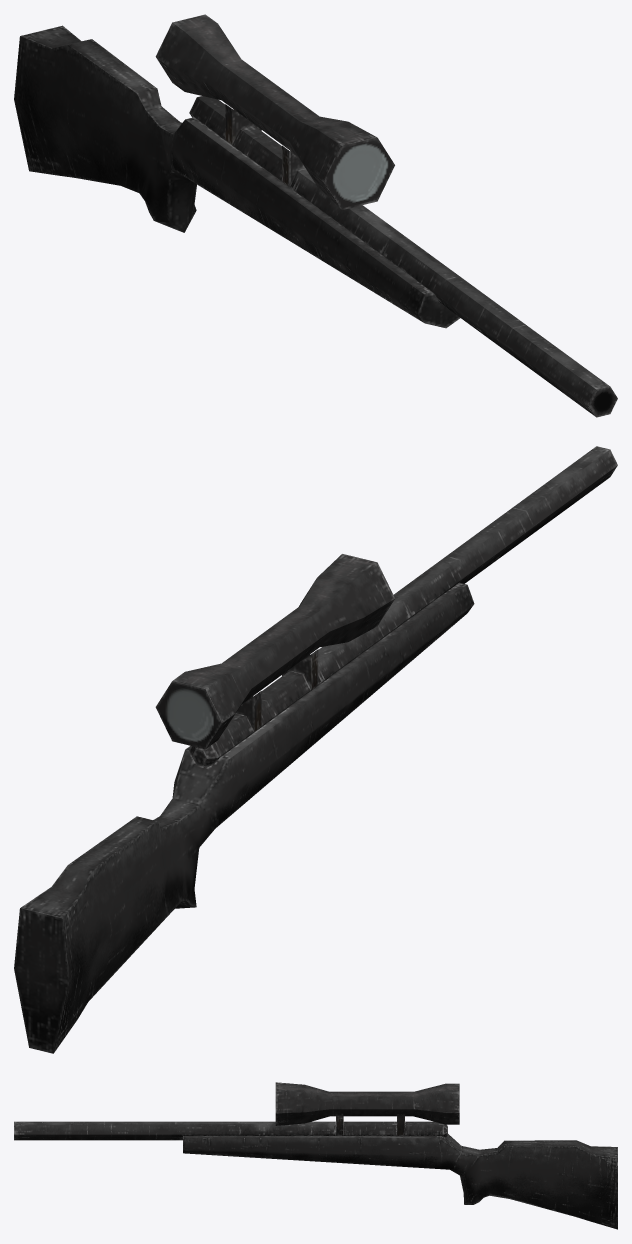
File: Props_Snipergun_1.FBX
The picture shows the model from 3 angles, top to bottom: view 1: azimuth 30°, elevation 25°; view 2: azimuth 150°, elevation 25°; view 3: azimuth 270°, elevation 25°; orthographic projection. The views are drawn at different scales.
Visible parts, largest first — view 1: Snipergun_1; view 2: Snipergun_1; view 3: Snipergun_1.
Part boxes in pixels (left/top/right/bottom): Snipergun_1: left=14, top=14, right=617, bottom=417; Snipergun_1: left=14, top=446, right=617, bottom=1053; Snipergun_1: left=14, top=1082, right=617, bottom=1229.
Size of the model in its own units: 16.55 by 58.2 by 228.
1 material, 1 textured.
